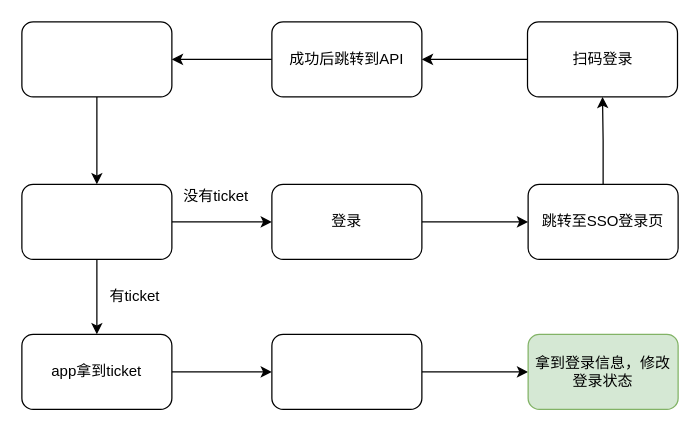
Image size: 700x431. Some labels were removed from this diagram. Here are the shapes that lost their labels. From the top down, the centre of each, then its label:
At point 96,59: "api再跳转回首页并携带ticket的query".
At point 96,221: "进入APP".
At point 346,371: "通过ticket请求登录信息".
